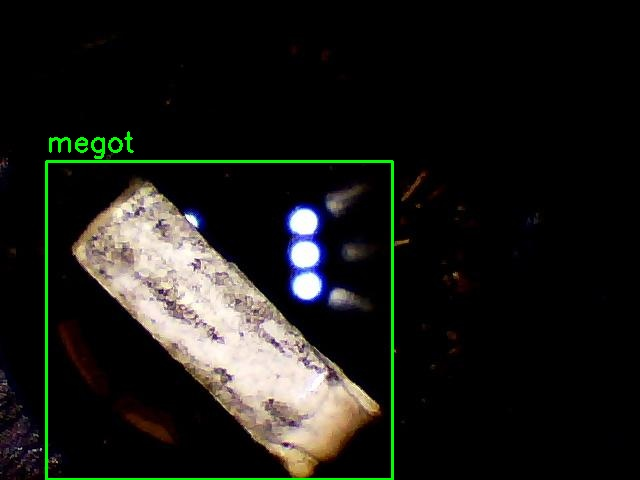megot: (46, 161, 392, 479)
